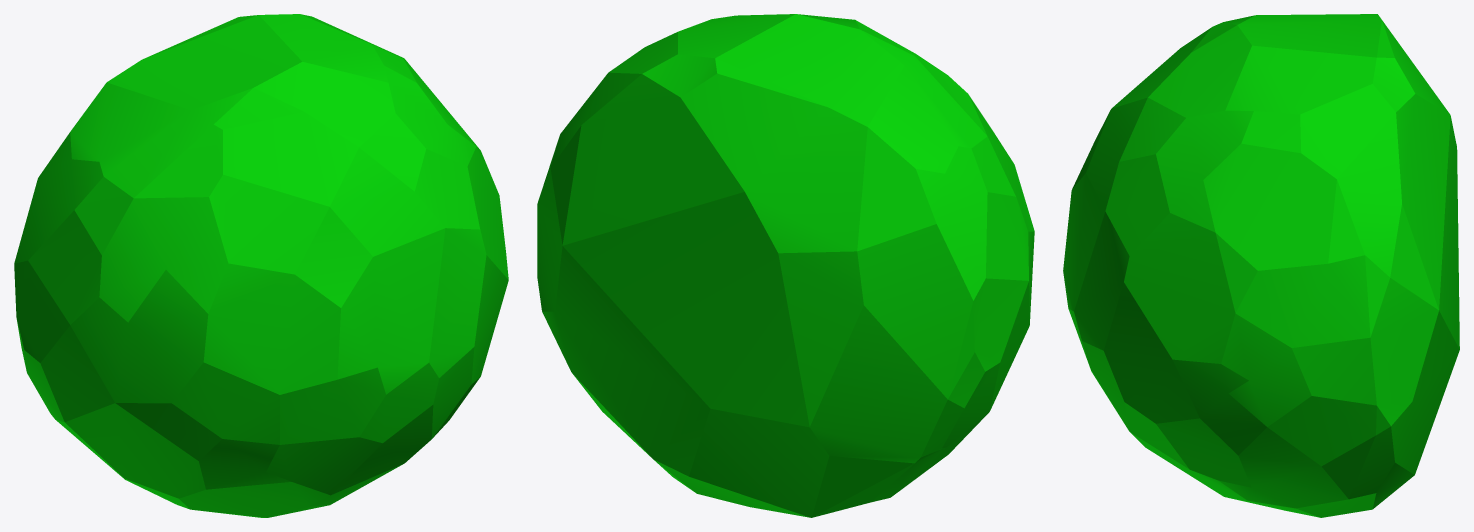
File: LH_HAA_com_constraints.dae
3 views of the same model, side by side, from view 1: azimuth 30°, elevation 25°; view 2: azimuth 150°, elevation 25°; view 3: azimuth 270°, elevation 25° (orthographic).
Visible parts, largest first — view 1: foo_010; view 2: foo_010; view 3: foo_010.
Part boxes in pixels (box(x1,y1,x2,y2)): foo_010: box(14, 14, 508, 517); foo_010: box(537, 14, 1034, 517); foo_010: box(1063, 14, 1459, 517).
Size of the model in its own units: 1.91 by 1.5 by 1.9.
